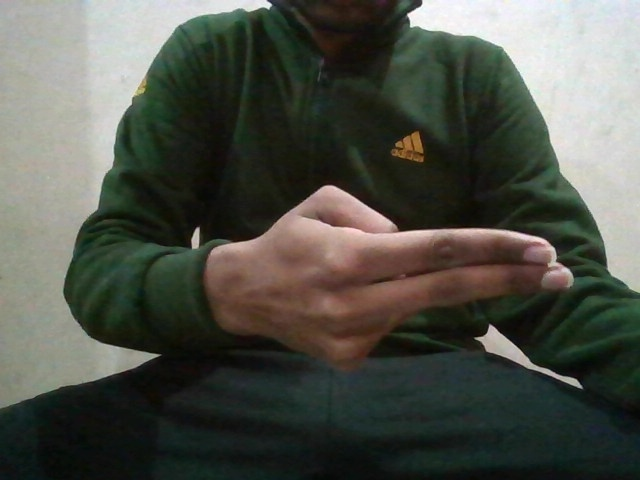H: (229, 183, 575, 376)
